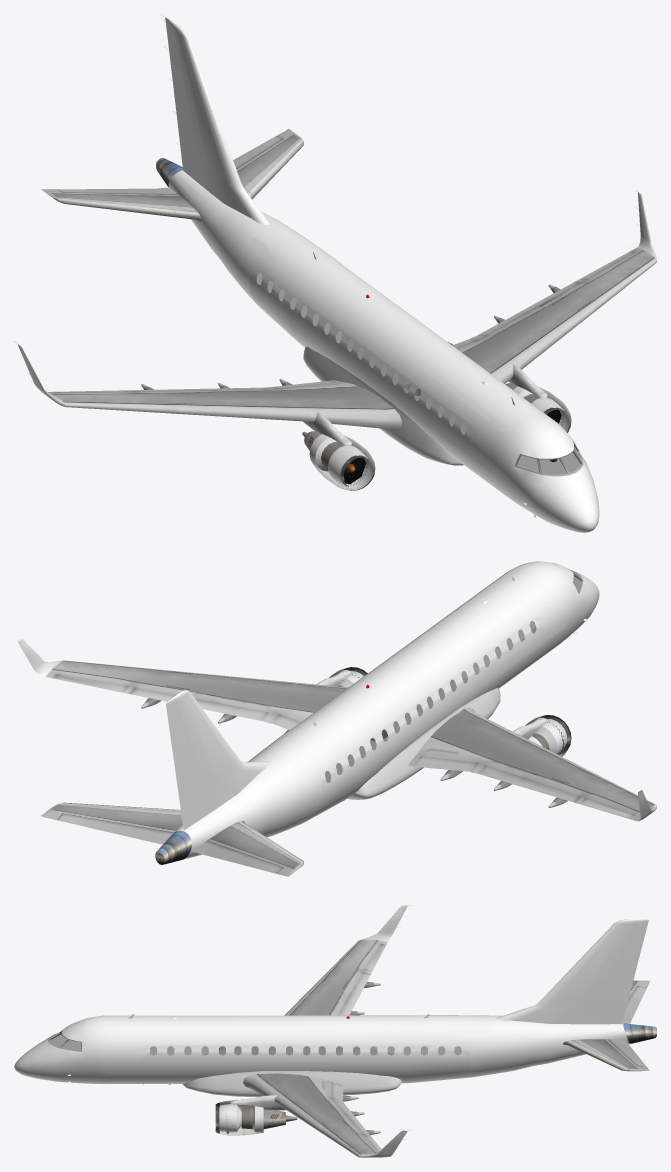
3 views of the same model, one above another, from view 1: azimuth 30°, elevation 25°; view 2: azimuth 150°, elevation 25°; view 3: azimuth 270°, elevation 25° (orthographic). The views are drawn at different scales.
Visible parts, largest first — view 1: fuselage.001; view 2: fuselage.001; view 3: fuselage.001.
Boxes of the visible parts, x1,y1,x2,y2 form: fuselage.001: [14, 14, 656, 532]; fuselage.001: [15, 561, 656, 876]; fuselage.001: [14, 905, 656, 1157].
Size of the model in its own units: 25.56 by 9.46 by 30.82.
Materials: 10 (5 with a texture image).
